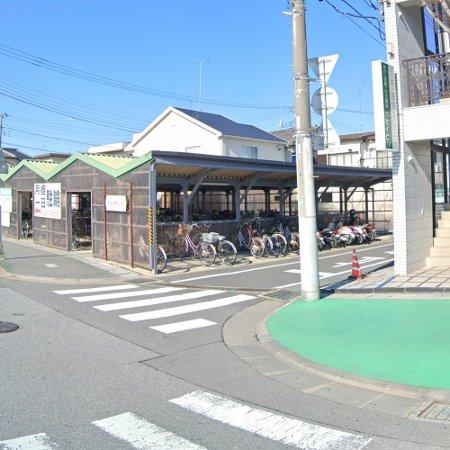crosswalks: (53, 284, 255, 333)
